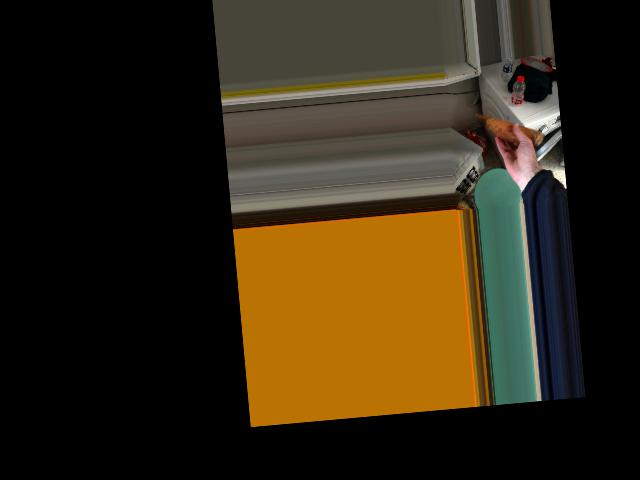sweet_potato: (491, 112, 540, 148)
